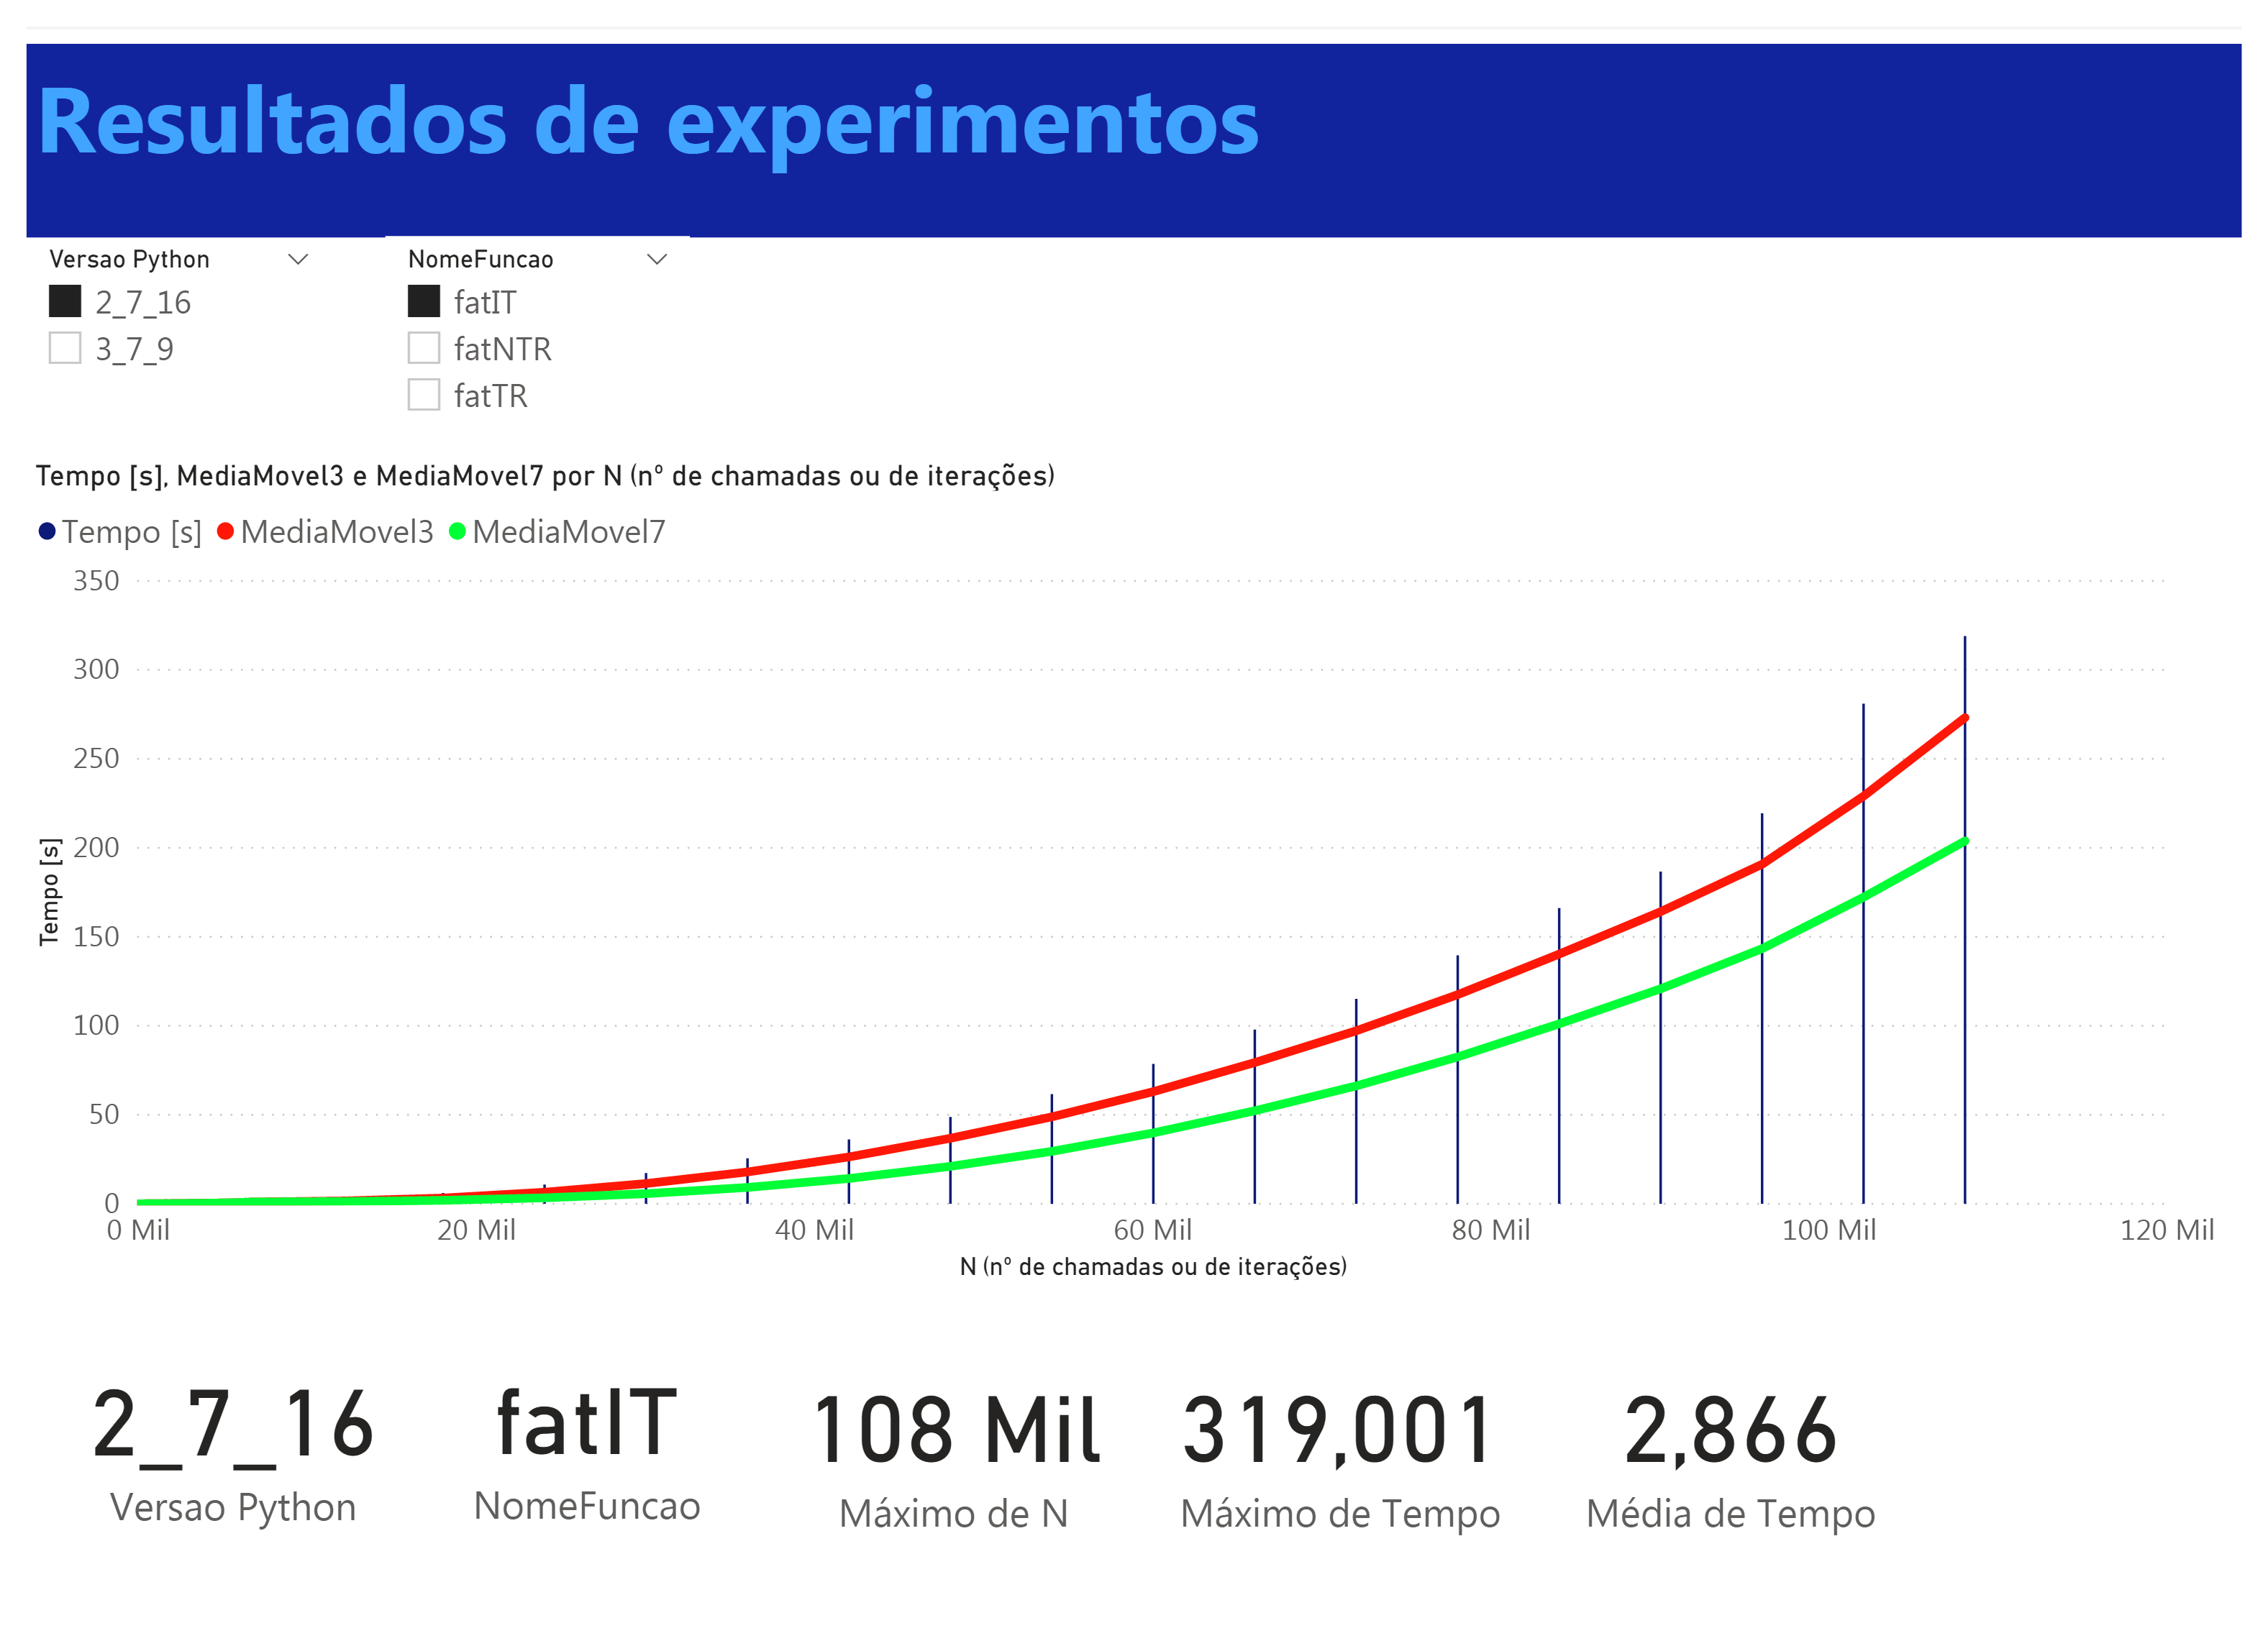

The page's visual inventory and layout, read from the dashboard file:
{"tool":"powerbi","page":{"name":"FatMod","canvas":[1280,900],"ordinal":0},"visuals":[{"type":"card","fields":{"Values":["Max(Tabela1.Tempo)"]},"box":[672,720,208,176],"z":0},{"type":"card","fields":{"Values":["Min(Tabela1.NomeFuncao)"]},"box":[208,720,288,176],"z":1000},{"type":"card","fields":{"Values":["Max(Tabela1.N)"]},"box":[496,720,176,176],"z":2000},{"type":"card","fields":{"Values":["Avg(Tabela1.Tempo)"]},"box":[896,720,192,176],"z":3000},{"type":"slicer","fields":{"Values":["Tabela1.Versao Python"]},"box":[0,120,168,96],"z":4000},{"type":"card","fields":{"Values":["Min(Tabela1.Versao Python)"]},"box":[0,720,192,176],"z":5000},{"type":"textbox","box":[0,0,1280,112],"z":6000},{"type":"lineClusteredColumnComboChart","fields":{"Y":["Sum(Tabela1.Tempo)"],"Category":["Tabela1.N"],"Y2":["Tabela1.MediaMovel3","Tabela1.MediaMovel7"]},"box":[0,240,1272,480],"z":7000},{"type":"slicer","fields":{"Values":["Tabela1.NomeFuncao"]},"box":[240,120,240,120],"z":8000}]}

Visuals, with their boxes in screenshot pixels (x1, y1, x2, y2), scaled from the page's 1280x900 canvas onto the 2268x1641 screenshot:
card - Max(Tabela1.Tempo): pyautogui.locateOnScreen(1190, 1313, 1559, 1634)
card - Min(Tabela1.NomeFuncao): pyautogui.locateOnScreen(368, 1313, 879, 1634)
card - Max(Tabela1.N): pyautogui.locateOnScreen(879, 1313, 1190, 1634)
card - Avg(Tabela1.Tempo): pyautogui.locateOnScreen(1588, 1313, 1928, 1634)
slicer - Tabela1.Versao Python: pyautogui.locateOnScreen(0, 219, 298, 394)
card - Min(Tabela1.Versao Python): pyautogui.locateOnScreen(0, 1313, 340, 1634)
textbox: pyautogui.locateOnScreen(0, 0, 2267, 204)
lineClusteredColumnComboChart - Sum(Tabela1.Tempo) x Tabela1.N: pyautogui.locateOnScreen(0, 438, 2254, 1313)
slicer - Tabela1.NomeFuncao: pyautogui.locateOnScreen(425, 219, 850, 438)
